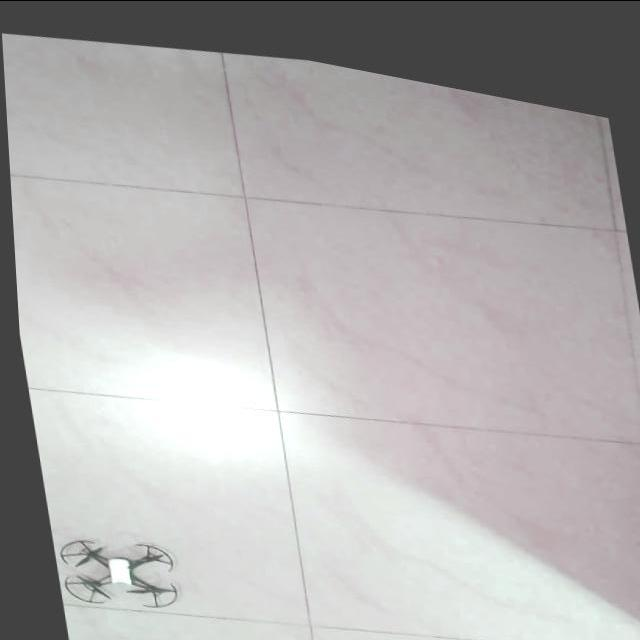drone: (51, 536, 170, 601)
